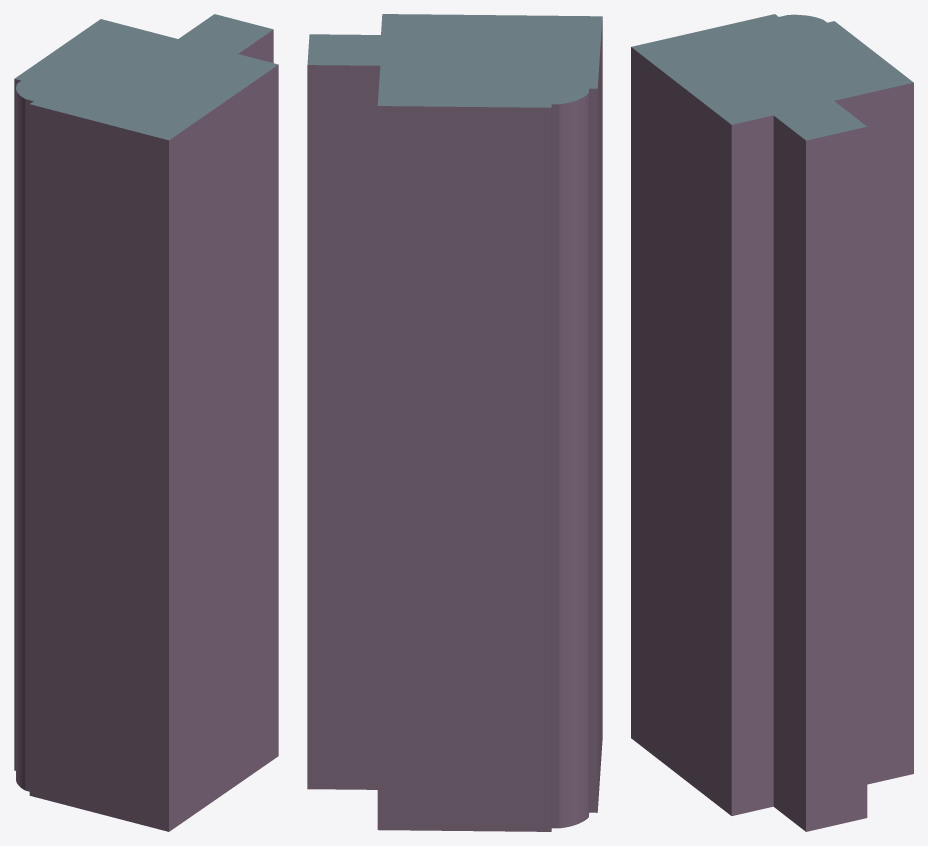
File: nyc-1071438-0.glb
3 renders of one model, left to right at view 1: azimuth 30°, elevation 25°; view 2: azimuth 150°, elevation 25°; view 3: azimuth 270°, elevation 25°, orthographic. The views are drawn at different scales.
Visible parts, largest first — view 1: nyc-1071438-0; view 2: nyc-1071438-0; view 3: nyc-1071438-0.
Boxes of the visible parts, x1=… form: nyc-1071438-0: x1=14, y1=14, x2=278, y2=831; nyc-1071438-0: x1=307, y1=14, x2=602, y2=831; nyc-1071438-0: x1=631, y1=14, x2=913, y2=831.
Size of the model in its own units: 40.07 by 102 by 37.81.
